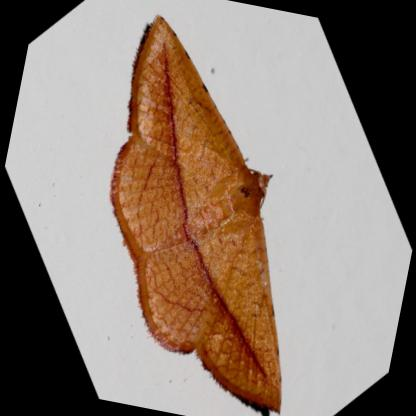Leaf Webber: (111, 14, 284, 416)
